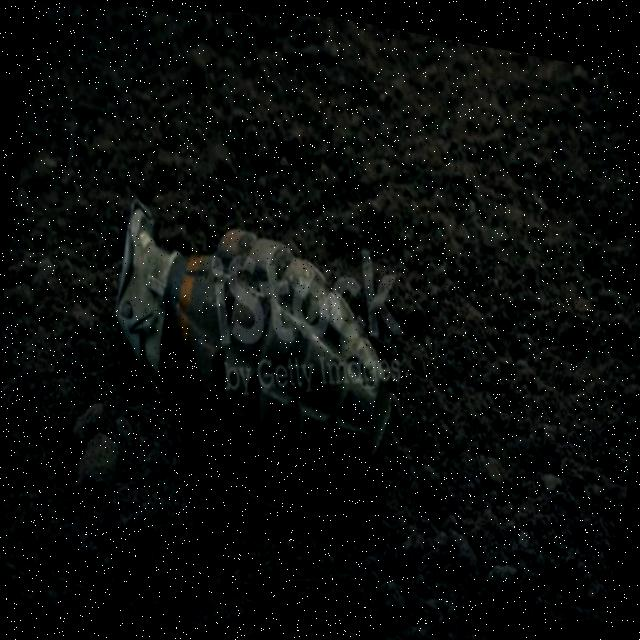grenade: (61, 132, 454, 584)
